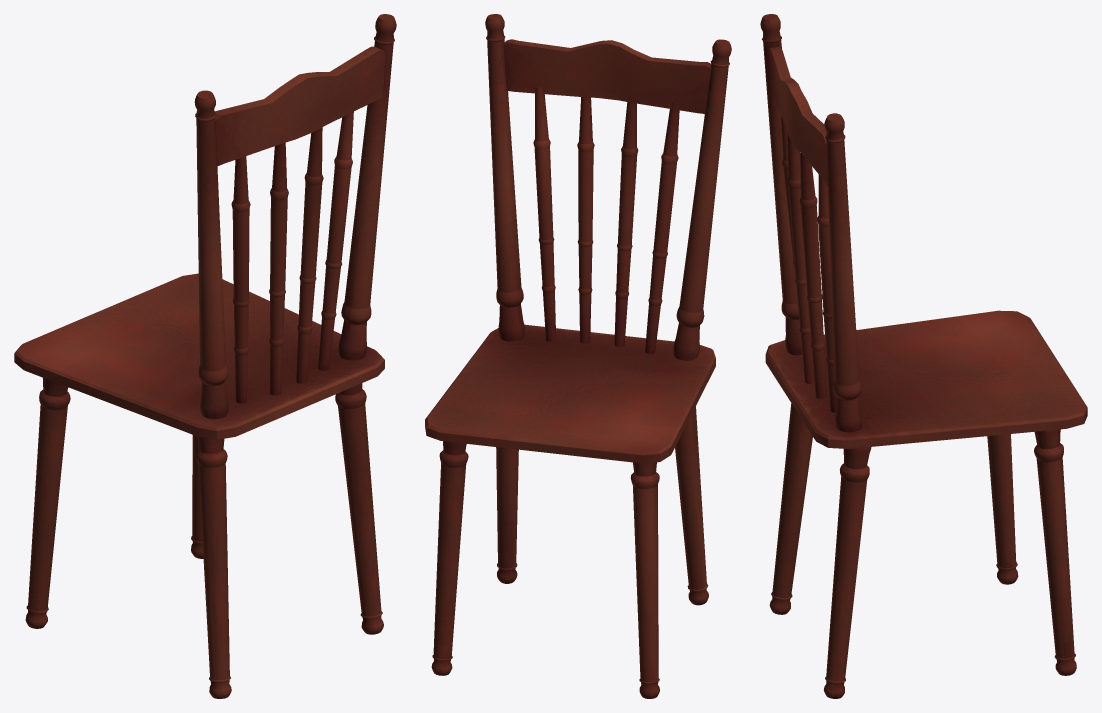
The model's file is 09_Lv1 Chair.fbx.
3 views of the same model, side by side, from view 1: azimuth 30°, elevation 25°; view 2: azimuth 150°, elevation 25°; view 3: azimuth 270°, elevation 25° (orthographic). The views are drawn at different scales.
Visible parts, largest first — view 1: Chair_1; view 2: Chair_1; view 3: Chair_1.
Boxes of the visible parts, bbox=[...] form: Chair_1: bbox=[14, 14, 396, 698]; Chair_1: bbox=[425, 14, 731, 698]; Chair_1: bbox=[760, 14, 1087, 698].
Bounding box in the file's own units: 1148 × 2345 × 1186.
